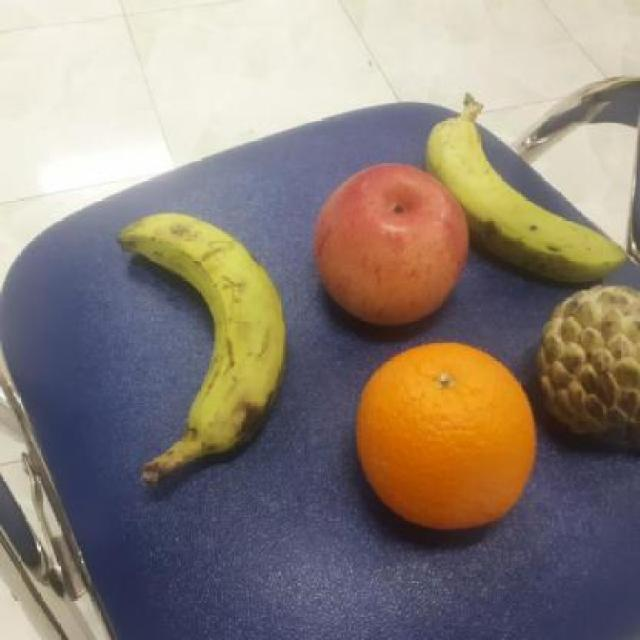apple: (310, 162, 472, 326)
banana: (115, 204, 291, 451), (423, 112, 632, 283)
oren: (349, 337, 536, 538)
sugar apple: (531, 282, 640, 442)
